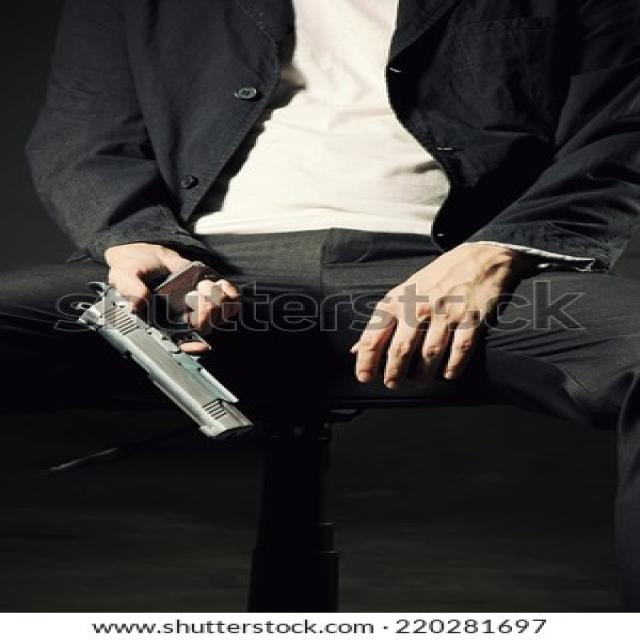HandGun: (55, 264, 254, 441)
